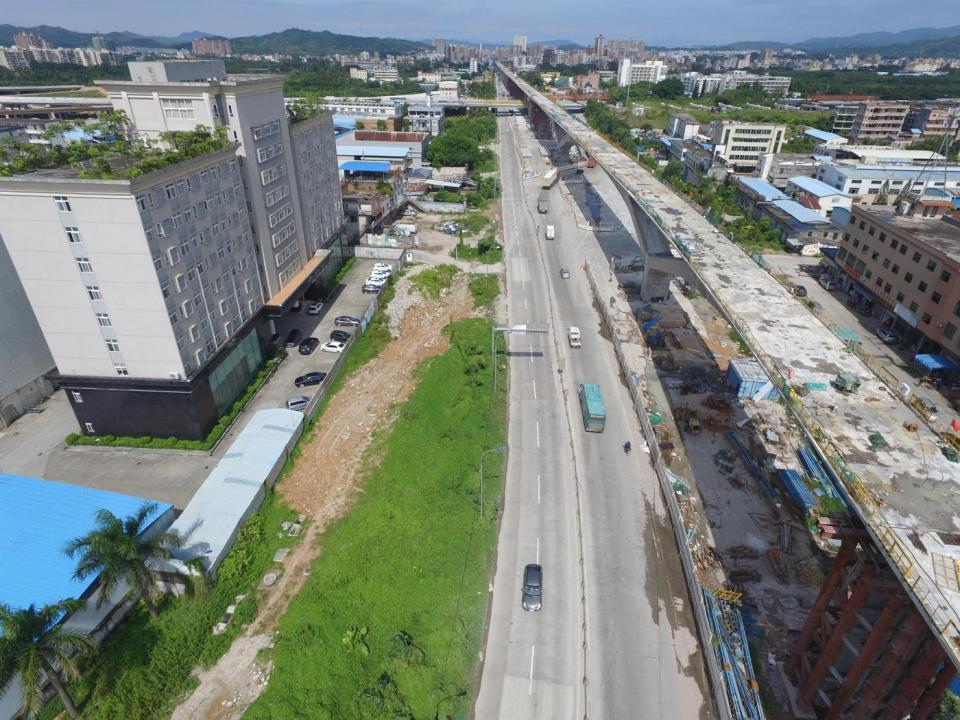bus: (579, 384, 604, 433)
car: (522, 564, 542, 610), (913, 396, 940, 421), (294, 372, 327, 389), (874, 328, 898, 344), (331, 328, 353, 344), (320, 342, 347, 355), (284, 329, 302, 348), (299, 338, 319, 354), (334, 316, 359, 327), (308, 301, 325, 314), (362, 284, 381, 295), (790, 284, 805, 297), (366, 277, 386, 286), (820, 278, 835, 290), (372, 264, 394, 272), (370, 271, 392, 278), (398, 209, 417, 216), (560, 270, 571, 278), (576, 169, 584, 174)
truck: (542, 170, 560, 189), (568, 327, 581, 348), (536, 195, 549, 214), (394, 223, 417, 233), (588, 156, 599, 168), (545, 225, 554, 239)
van: (285, 395, 317, 413)
